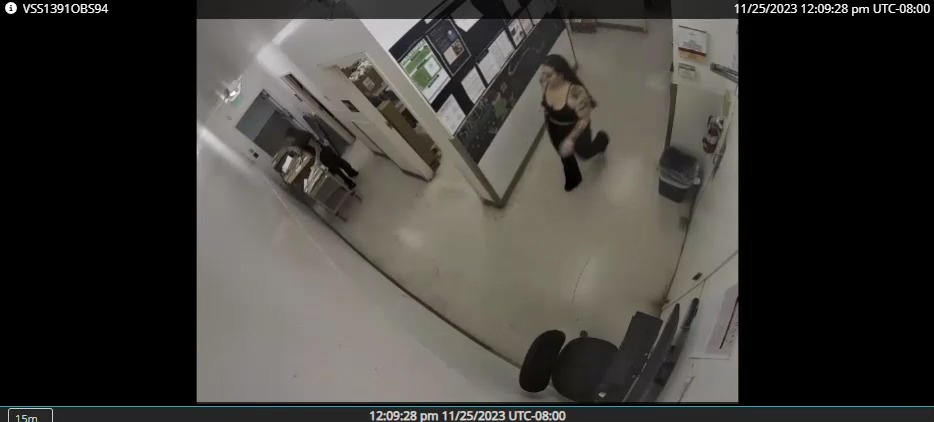gloves: (559, 132, 576, 158)
